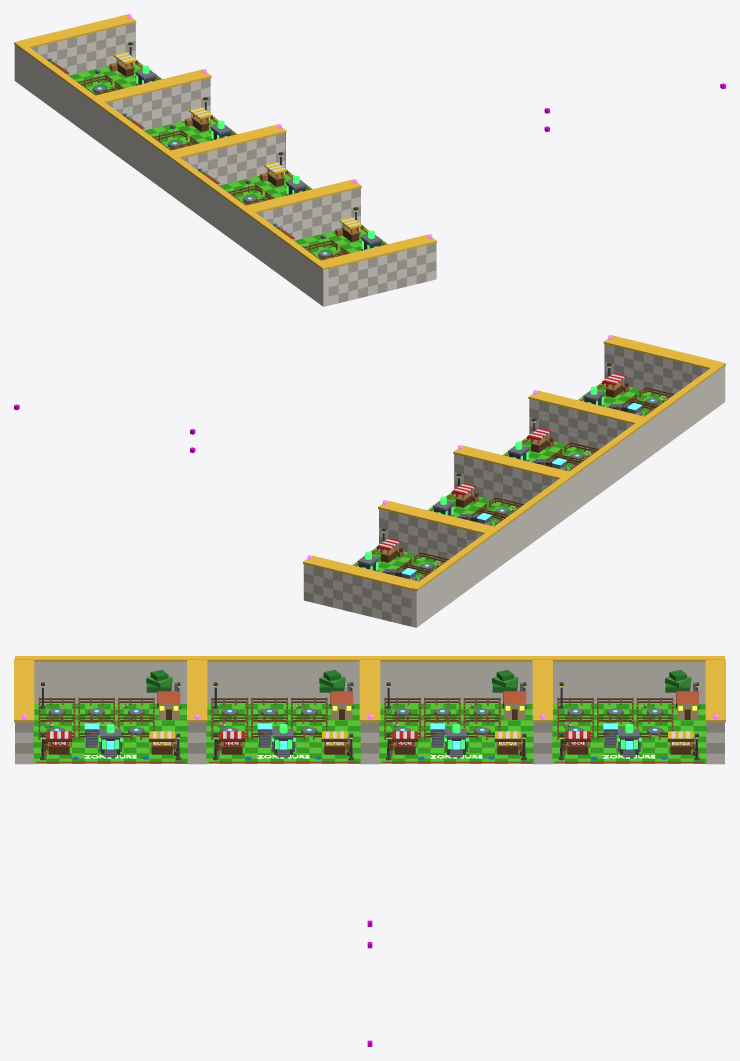
The model's file is Plots.glb.
The picture shows the model from 3 angles, top to bottom: view 1: azimuth 30°, elevation 25°; view 2: azimuth 150°, elevation 25°; view 3: azimuth 270°, elevation 25°; orthographic projection. The views are drawn at different scales.
Visible parts, largest first — view 1: Plots_Walls__marble, Plots_Walls__gold, Plots_Walls__marble_dark, Plot_B4__grass_b, Plot_B2__grass_b, Plot_B3__grass_b, Plot_B1__grass_b, Plot_B1__grass_a, Plot_B3__grass_a, Plot_B4__grass_a, Plot_B2__grass_a; view 2: Plots_Walls__marble, Plots_Walls__marble_dark, Plots_Walls__gold; view 3: Plots_Walls__marble, Plots_Walls__gold, Plot_B4__grass_b, Plot_B3__grass_b, Plot_B1__grass_b, Plot_B4__grass_a, Plot_B3__grass_a, Plot_B2__grass_b, Plot_B1__grass_a, Plot_B2__grass_a, Plots_Walls__marble_dark, Plot_B3__wood (+7 smaller).
Boxes of the visible parts, <box> form: Plots_Walls__marble: <box>14,25,436,306</box>; Plots_Walls__gold: <box>14,14,436,269</box>; Plots_Walls__marble_dark: <box>31,23,436,302</box>; Plot_B4__grass_b: <box>299,228,382,257</box>; Plot_B2__grass_b: <box>224,173,307,202</box>; Plot_B3__grass_b: <box>74,63,143,92</box>; Plot_B1__grass_b: <box>149,118,232,147</box>; Plot_B1__grass_a: <box>144,116,237,149</box>; Plot_B3__grass_a: <box>69,61,161,94</box>; Plot_B4__grass_a: <box>295,226,387,259</box>; Plot_B2__grass_a: <box>219,171,312,204</box>; Plots_Walls__marble: <box>303,344,725,627</box>; Plots_Walls__marble_dark: <box>303,344,701,626</box>; Plots_Walls__gold: <box>303,335,725,590</box>; Plots_Walls__marble: <box>15,662,724,764</box>; Plots_Walls__gold: <box>14,656,725,722</box>; Plot_B4__grass_b: <box>33,704,187,763</box>; Plot_B3__grass_b: <box>552,704,706,763</box>; Plot_B1__grass_b: <box>379,704,533,763</box>; Plot_B4__grass_a: <box>33,704,187,763</box>; Plot_B3__grass_a: <box>552,704,706,763</box>; Plot_B2__grass_b: <box>206,704,360,763</box>; Plot_B1__grass_a: <box>379,704,533,763</box>; Plot_B2__grass_a: <box>206,704,360,763</box>; Plots_Walls__marble_dark: <box>15,722,724,753</box>; Plot_B3__wood: <box>557,693,698,754</box>.
Bounding box in the file's own units: 633 × 78.4 × 610.
